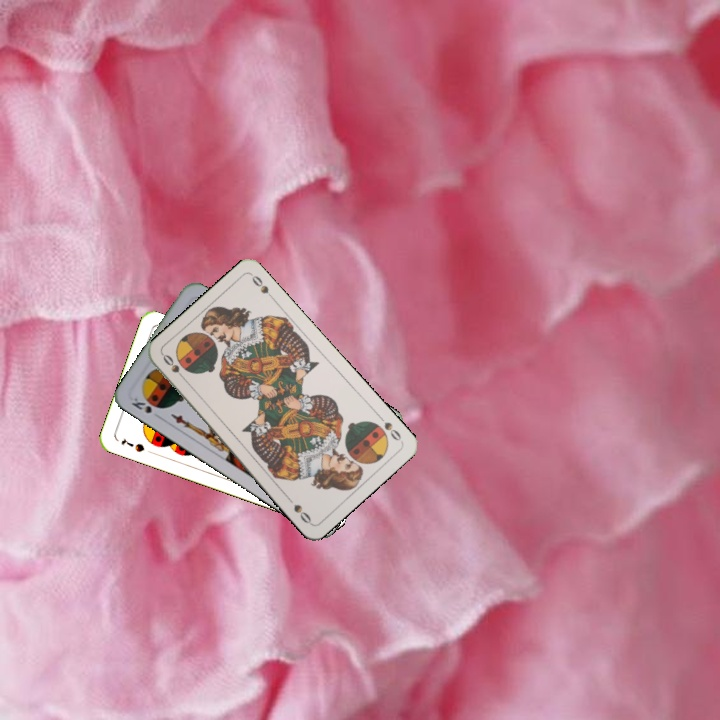S7: (117, 435, 147, 455)
SK: (127, 393, 164, 421)
SO: (159, 350, 190, 384), (374, 411, 405, 444)
